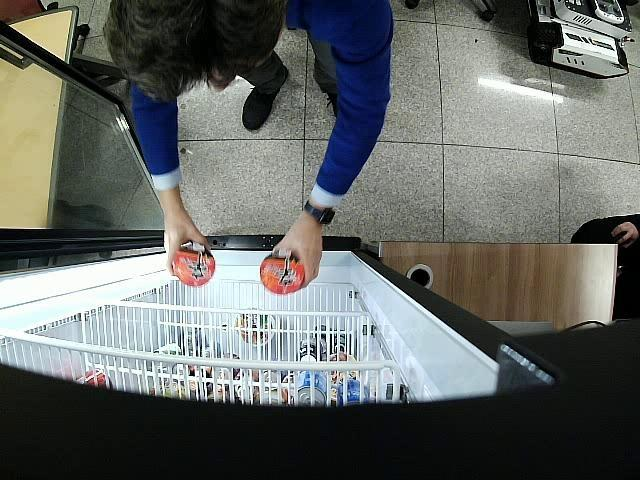02_shinRamen_S: (260, 249, 306, 295), (172, 243, 215, 286)
